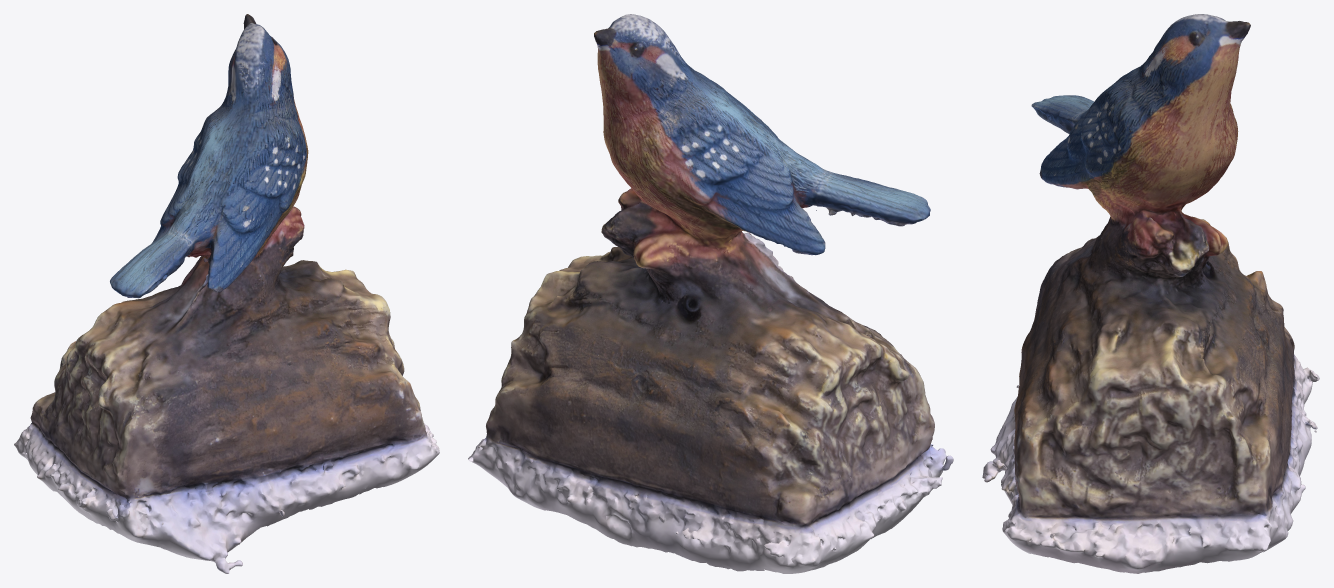
The model's file is bird2.gltf.
3 views of the same model, side by side, from view 1: azimuth 30°, elevation 25°; view 2: azimuth 150°, elevation 25°; view 3: azimuth 270°, elevation 25° (orthographic). The views are drawn at different scales.
Parts seen in each view (by area): view 1: bird2; view 2: bird2; view 3: bird2.
Part boxes in pixels (x1,y1,x2,y2): bird2: (14, 14, 439, 573); bird2: (468, 14, 953, 573); bird2: (982, 14, 1319, 573).
Bounding box in the file's own units: 1.59 × 1.94 × 1.11.
